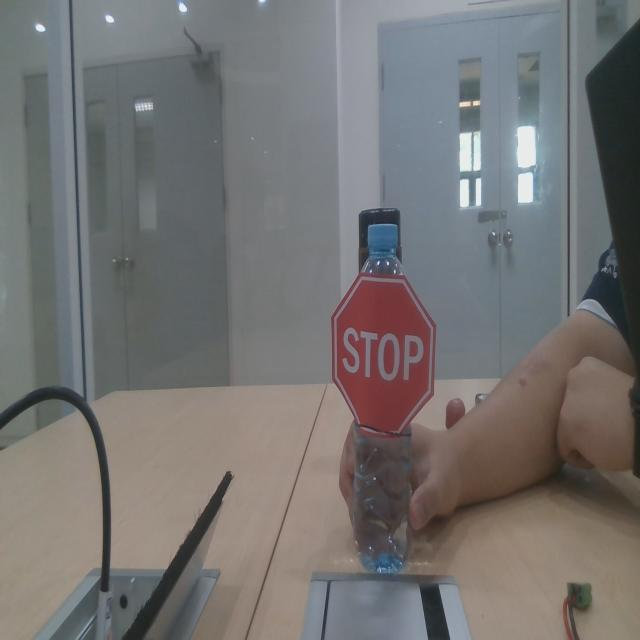Stop: (323, 261, 445, 438)
